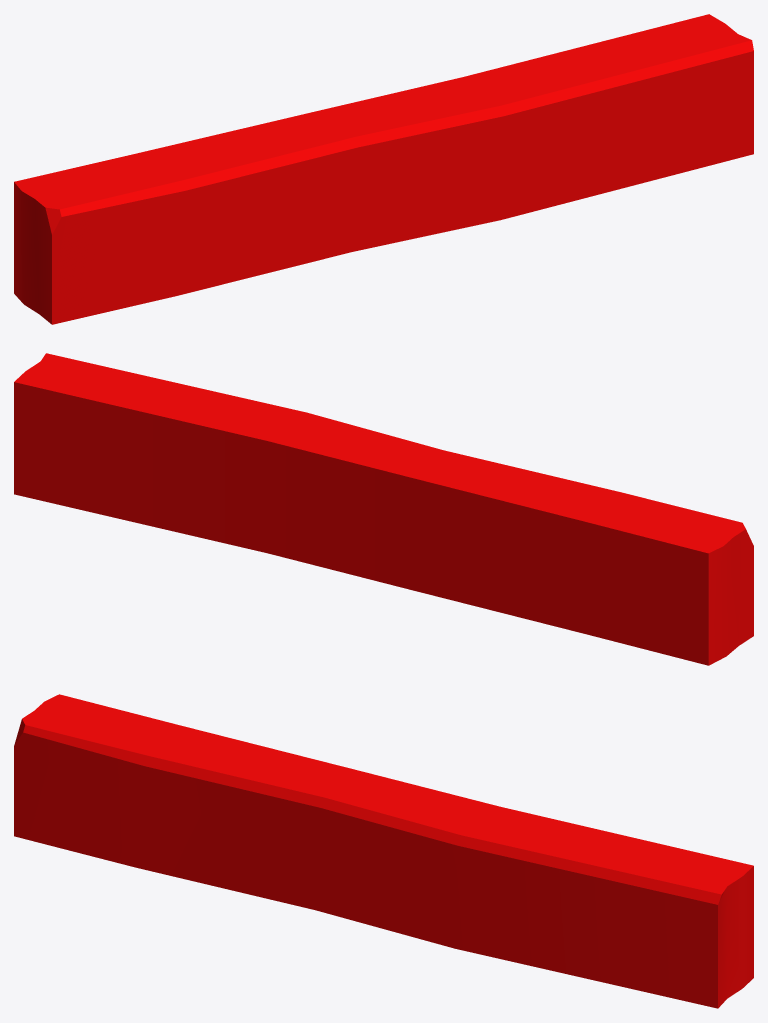
Rendered from Stone_XL.fbx.
3 views of the same model, one above another, from view 1: azimuth 30°, elevation 25°; view 2: azimuth 150°, elevation 25°; view 3: azimuth 330°, elevation 25° (orthographic).
Visible parts, largest first — view 1: Stone_XL; view 2: Stone_XL; view 3: Stone_XL.
Part boxes in pixels (bbox=[...]): Stone_XL: bbox=[14, 14, 753, 324]; Stone_XL: bbox=[14, 353, 753, 665]; Stone_XL: bbox=[14, 694, 753, 1008].
Size of the model in its own units: 416 by 63.24 by 47.76.
